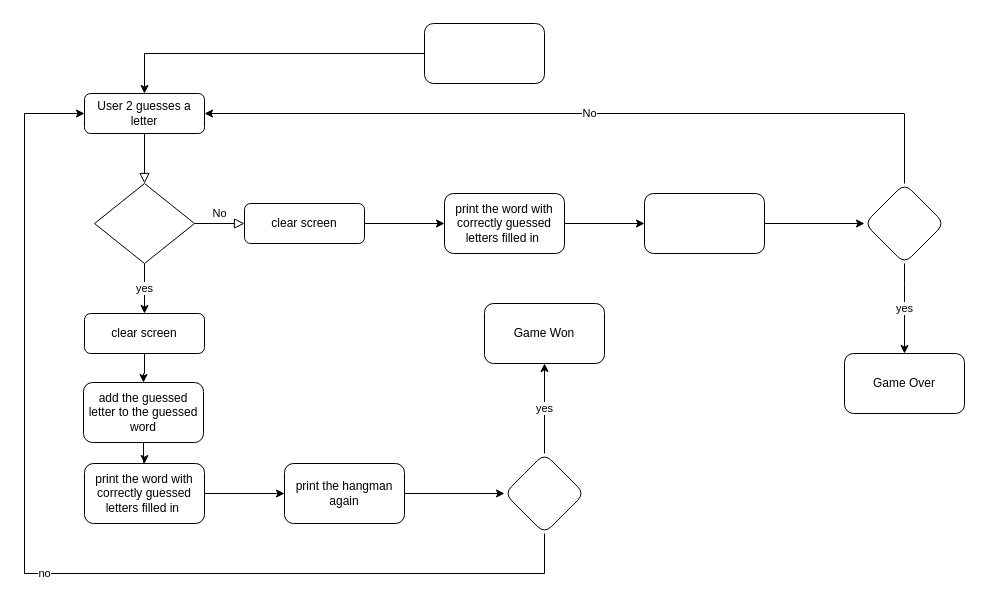
Some shapes in this 982 by 599 pixel diagram are drawn without their labels. The centre of each missing label's shape, as x and y in pixels:
"are all the limbs hanged?" goes at (x=904, y=223).
"Is the letter in the word?" goes at (x=144, y=223).
"is the word fully guessed?" goes at (x=544, y=493).
"print the hangman with an extra limb" goes at (x=704, y=223).
"Take a word from the user 1" goes at (x=484, y=53).
